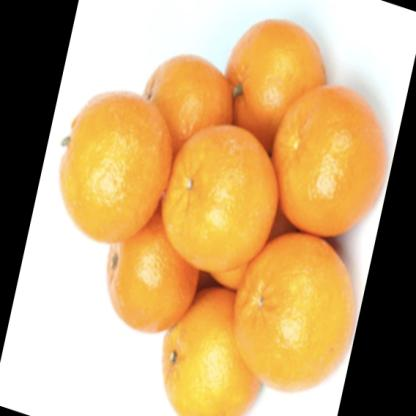fresh: (69, 18, 387, 416)
